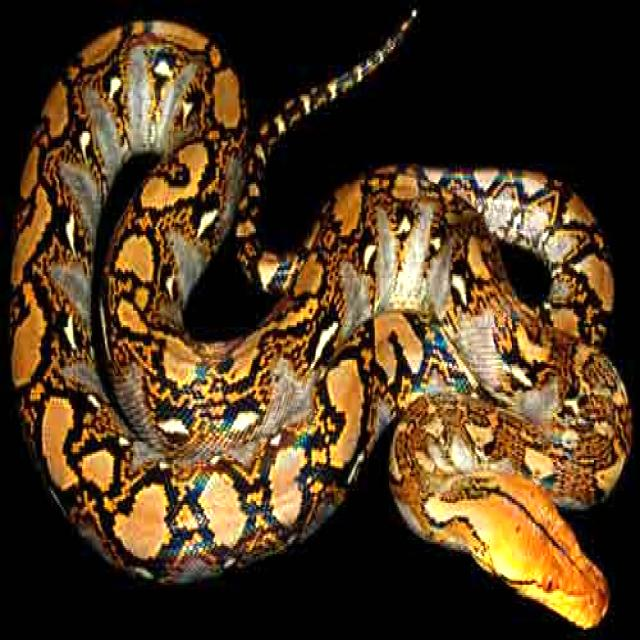Malayopython reticulatus: (11, 23, 631, 625)
snake: (11, 23, 631, 625)
